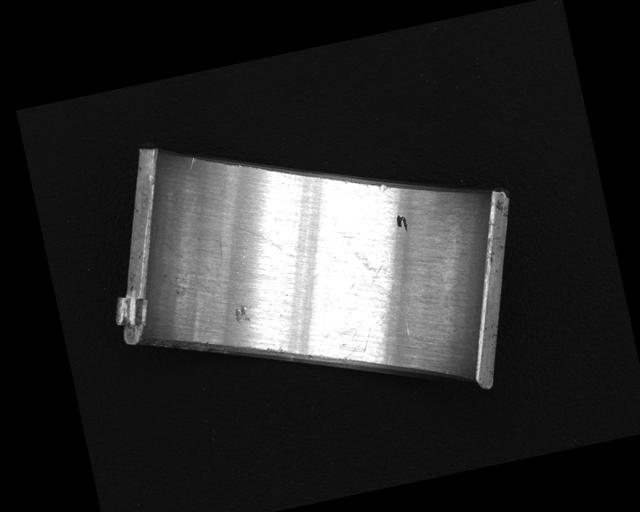blot: (345, 241, 395, 297), (394, 211, 409, 234)
bruise: (232, 303, 251, 326), (378, 182, 387, 192)
nick: (239, 218, 296, 269), (185, 156, 197, 170)
